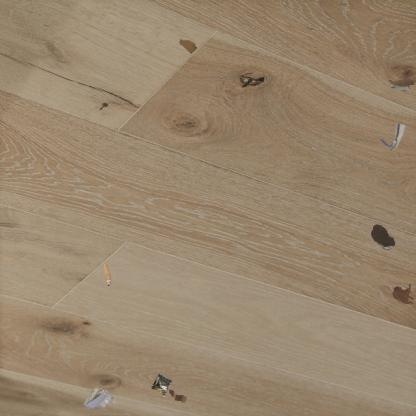dirty: (83, 384, 117, 411), (378, 121, 407, 150), (150, 370, 174, 396), (390, 77, 416, 94), (176, 36, 199, 55), (167, 387, 189, 405), (101, 261, 113, 286)
liquid: (370, 223, 396, 251), (392, 283, 416, 306)
